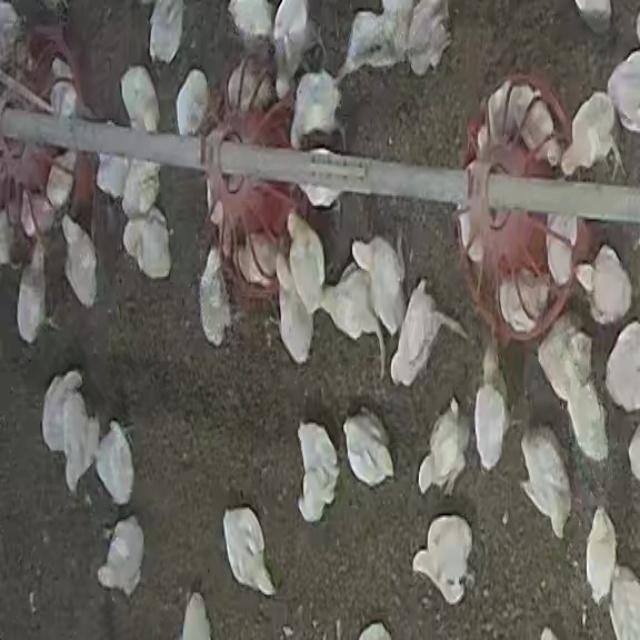chicken: (388, 277, 469, 383), (519, 418, 575, 542), (412, 390, 472, 503), (350, 235, 408, 341), (561, 91, 627, 182), (292, 416, 342, 530), (412, 515, 474, 605), (195, 248, 247, 352), (322, 267, 384, 349), (222, 507, 277, 598), (338, 6, 403, 82), (341, 401, 397, 489), (271, 1, 319, 101), (471, 344, 508, 472), (510, 78, 561, 168), (288, 71, 344, 151), (276, 254, 314, 367), (286, 210, 326, 314), (41, 372, 86, 462), (96, 516, 145, 598), (404, 0, 454, 78), (62, 212, 99, 310), (94, 422, 136, 508), (121, 213, 171, 282), (500, 269, 552, 333), (588, 246, 630, 325), (604, 322, 640, 414), (584, 511, 618, 606), (17, 243, 47, 347), (62, 397, 94, 494), (225, 56, 274, 116), (233, 231, 281, 292), (119, 65, 160, 133), (147, 0, 184, 65), (544, 218, 577, 290), (176, 68, 210, 135), (121, 159, 160, 217), (569, 219, 604, 275), (256, 99, 296, 147), (44, 156, 76, 213), (70, 153, 96, 218), (95, 152, 129, 201), (178, 595, 215, 640), (199, 84, 228, 138), (26, 185, 55, 238), (356, 622, 392, 640)
